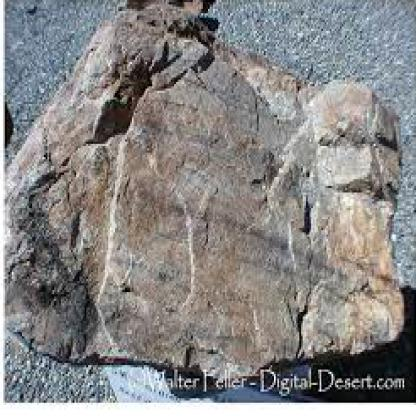Metamorphic_Quartize: (2, 2, 409, 365)
